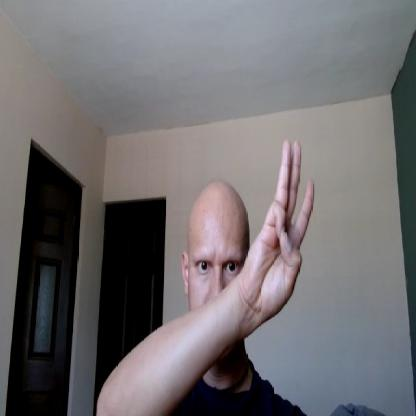W: (243, 133, 316, 317)
